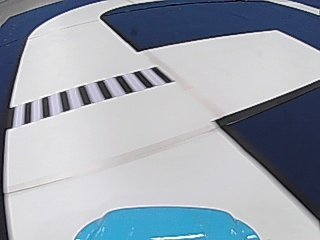CrossWalk: (19, 68, 165, 120)
